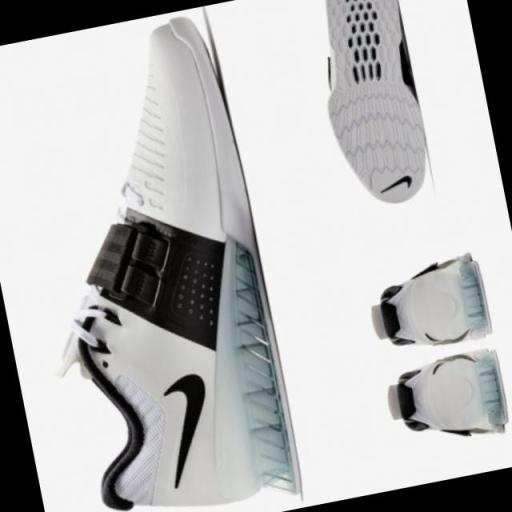Nike: (149, 364, 230, 494)
